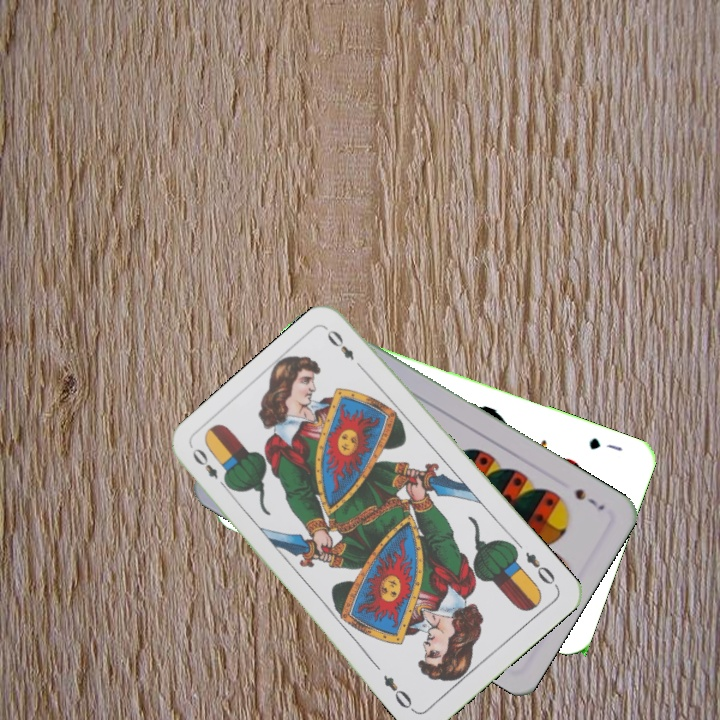EO: (188, 444, 234, 493), (521, 548, 561, 590)
GU: (585, 433, 625, 454)
S7: (570, 484, 607, 513)
